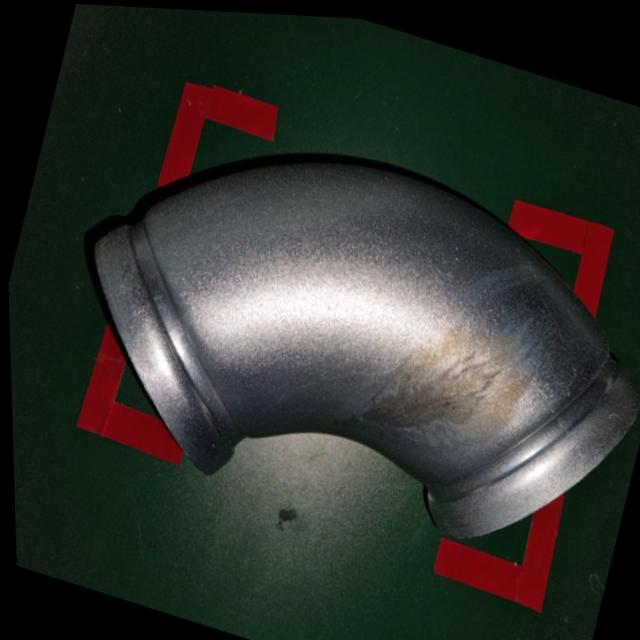Burn: (347, 263, 551, 484)
Defect: (29, 62, 640, 594)
